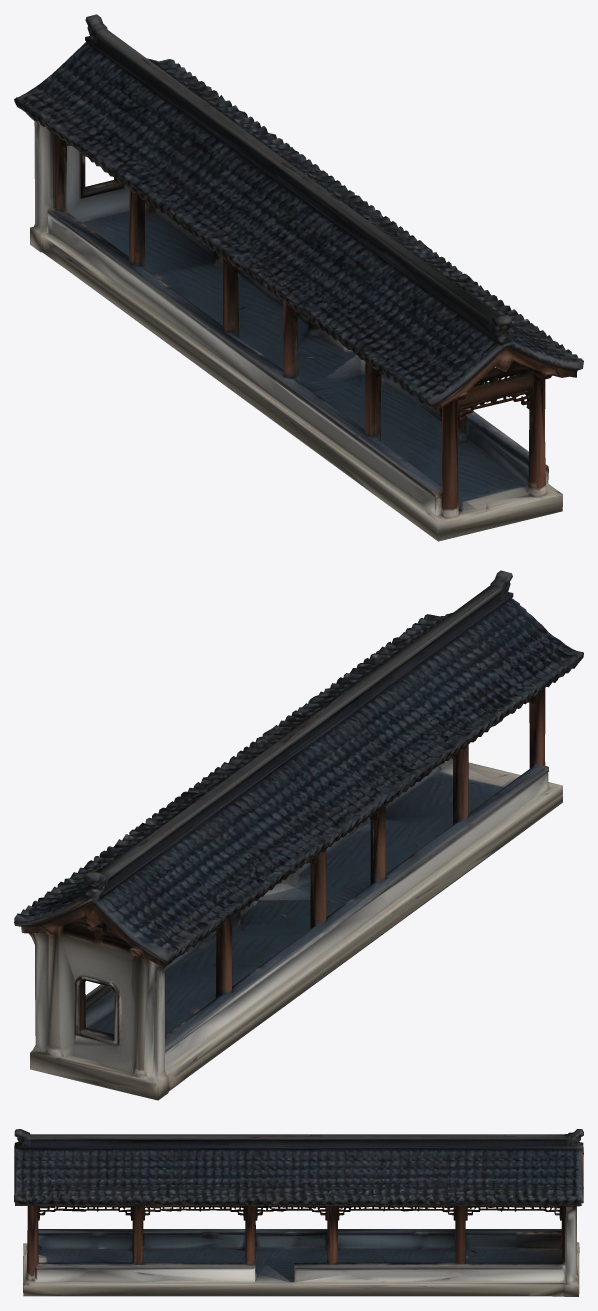
Rendered from corridor.glb.
3 renders of one model, top to bottom at view 1: azimuth 30°, elevation 25°; view 2: azimuth 150°, elevation 25°; view 3: azimuth 270°, elevation 25°, orthographic. The views are drawn at different scales.
Parts seen in each view (by area): view 1: node_0; view 2: node_0; view 3: node_0.
Boxes of the visible parts, box(x1,y1,x2,y2) form: node_0: box(14, 14, 583, 541); node_0: box(14, 570, 583, 1100); node_0: box(14, 1129, 583, 1296).
Bounding box in the file's own units: 1.93 × 2.49 × 8.88.
Materials: 1 (1 with a texture image).
